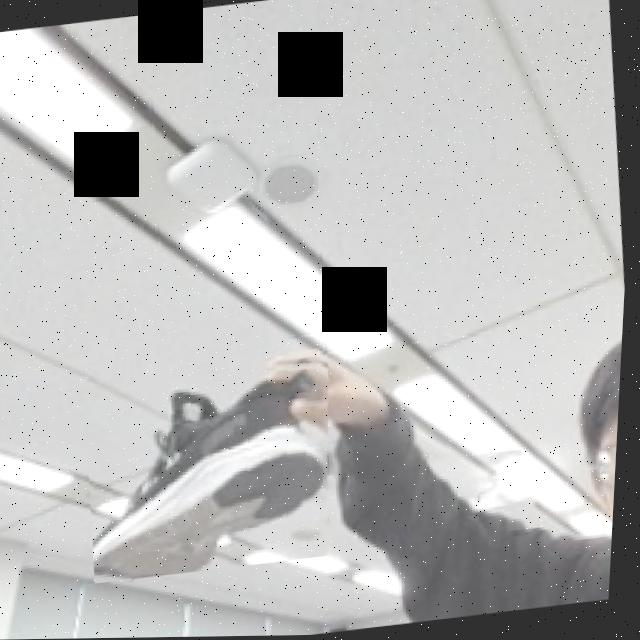shoe: (79, 349, 353, 584)
